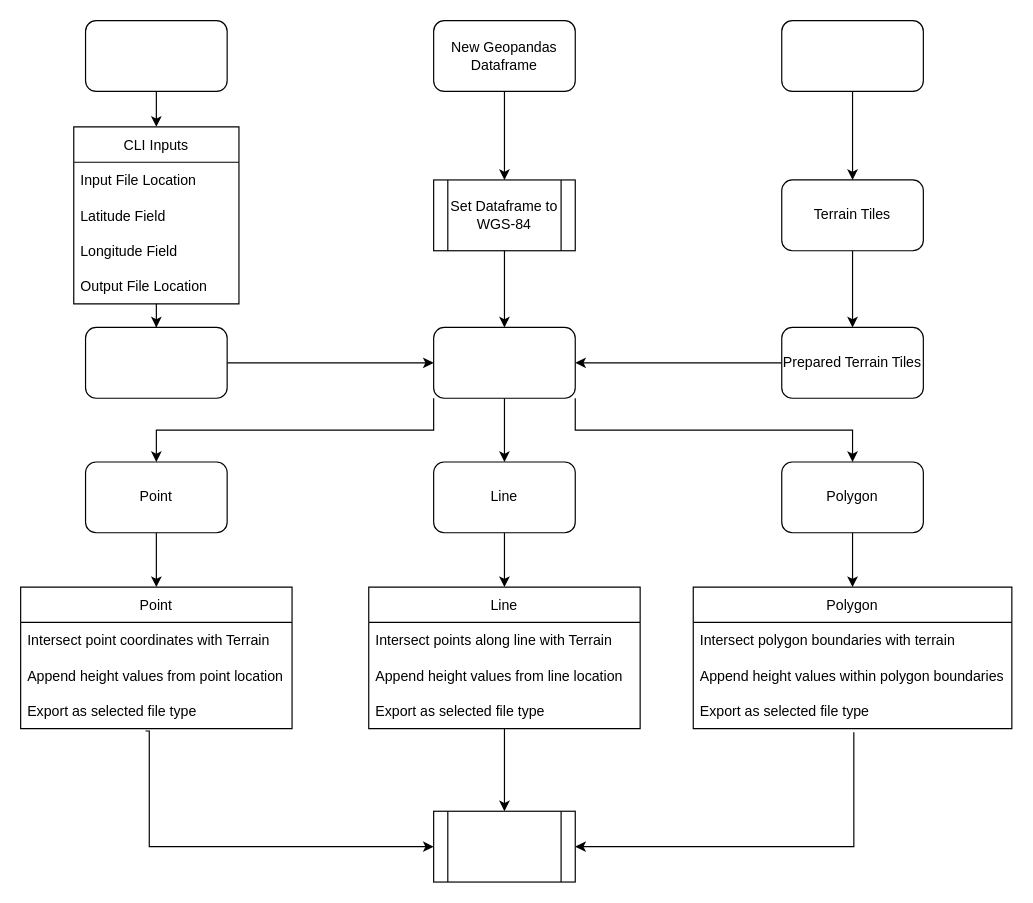
Some shapes in this 1033 by 903 pixel diagram are drawn without their labels. Each missing label, with the centre of its shape:
AWS: the point at 852,55
Exit CLI: the point at 503,846
Projected Geopandas Dataframe: the point at 503,362
Temporary GeoJSON File: the point at 155,362
User: the point at 155,55
